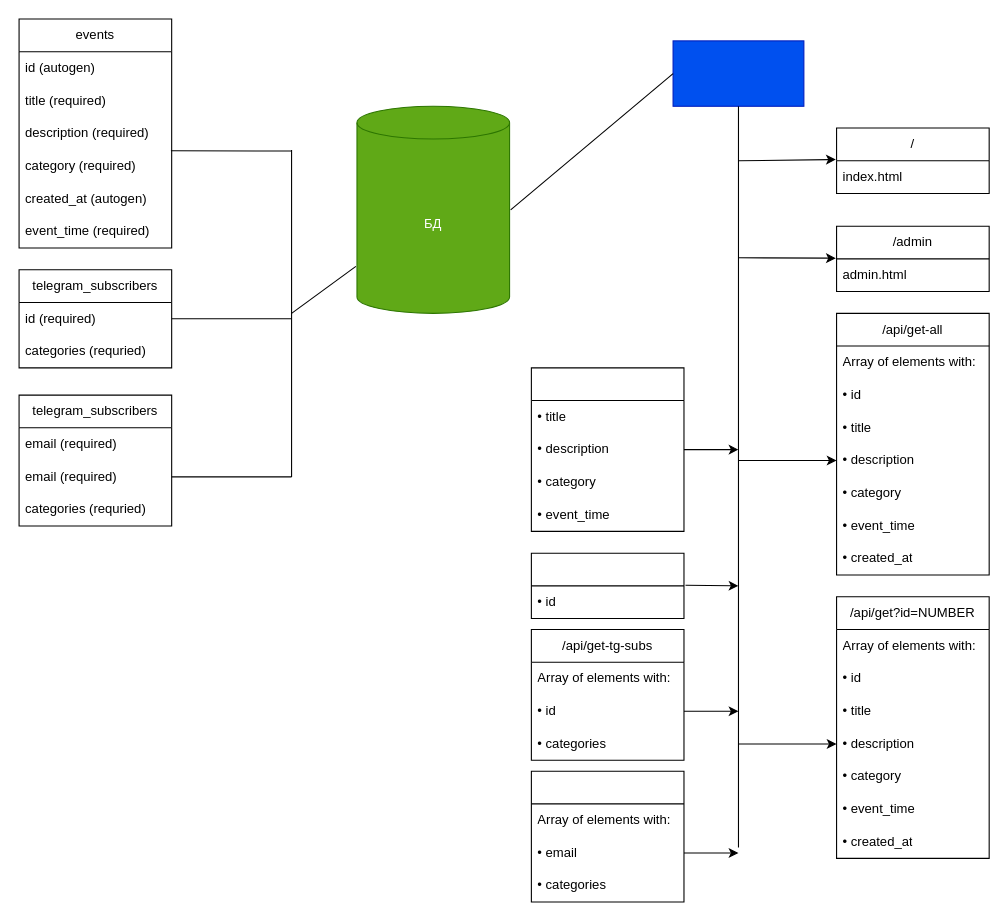
The diagram is 1008 pixels wide and 921 high, and some of its shapes have lost their labels. The shapes that lost their labels are listed below. From the top down, each one's box as (x1, y1, x2, y2) in pixels, then its label:
(672, 40, 804, 106): Обработчик запросов
(530, 367, 684, 531): /api/add-event
(530, 552, 684, 619): /api/delete-event
(530, 770, 684, 902): /api/get-email-subs
